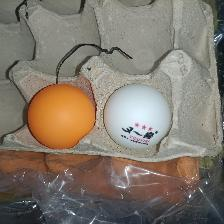WhiteBall: (103, 83, 172, 149)
YellowBall: (27, 82, 95, 149)
